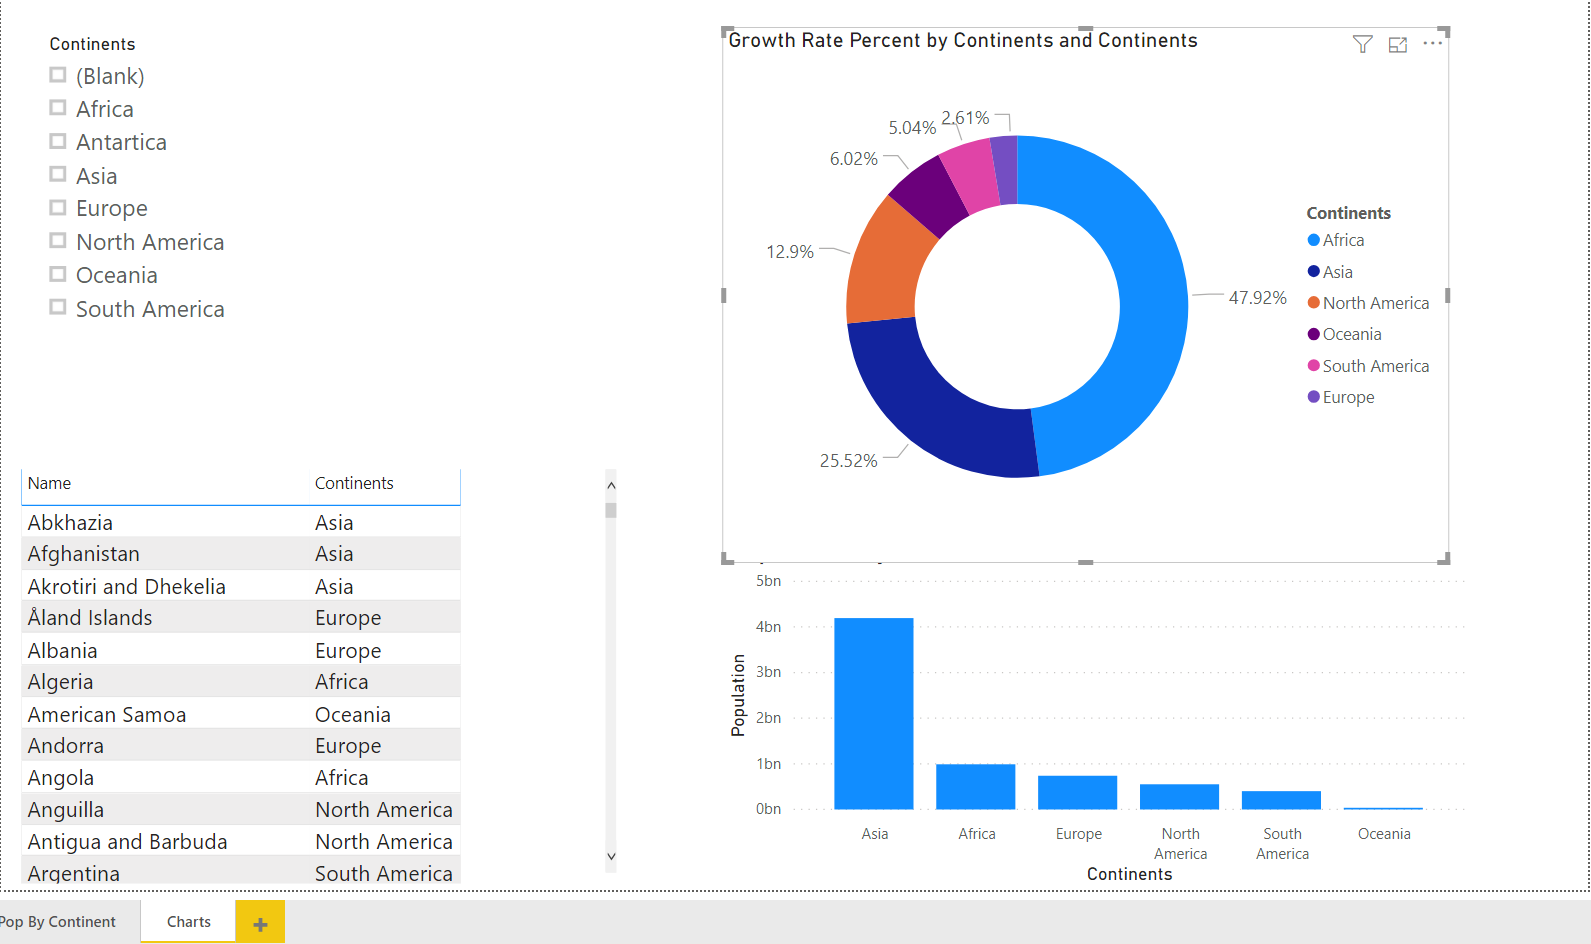

The page's visual inventory and layout, read from the dashboard file:
{"tool":"powerbi","page":{"name":"Charts","canvas":[1280,720],"ordinal":1},"visuals":[{"type":"clusteredColumnChart","fields":{"Y":["Sum(_Countries and Populations.Population)"],"Category":["_Countries and Populations.Continents Total"]},"box":[581.9,433.2,605.2,286.9],"z":0},{"type":"donutChart","fields":{"Category":["_Countries and Populations.Continents"],"Y":["Sum(_Countries and Populations.Growth Rate Percent)"],"Series":["_Countries and Populations.Continents"]},"box":[581.9,24.4,585.4,432.1],"z":1000},{"type":"tableEx","fields":{"Values":["_Countries and Populations.Name","_Countries and Populations.Continents"]},"box":[10.5,376.3,491.3,343.8],"z":2000},{"type":"slicer","fields":{"Values":["_Countries and Populations.Continents"]},"box":[26.7,24.4,230,288.1],"z":3000}]}

Visuals, with their boxes on the page's 1280x720 design canvas (x1, y1, x2, y2). These are canvas units, not pixel positions in the 1591x944 screenshot, which may show the page scaled, cropped or inside an application window:
clusteredColumnChart - Sum(_Countries and Populations.Population) x _Countries and Populations.Continents Total: [582, 433, 1187, 720]
donutChart - _Countries and Populations.Continents x Sum(_Countries and Populations.Growth Rate Percent): [582, 24, 1167, 456]
tableEx - _Countries and Populations.Name x _Countries and Populations.Continents: [10, 376, 502, 720]
slicer - _Countries and Populations.Continents: [27, 24, 257, 312]
